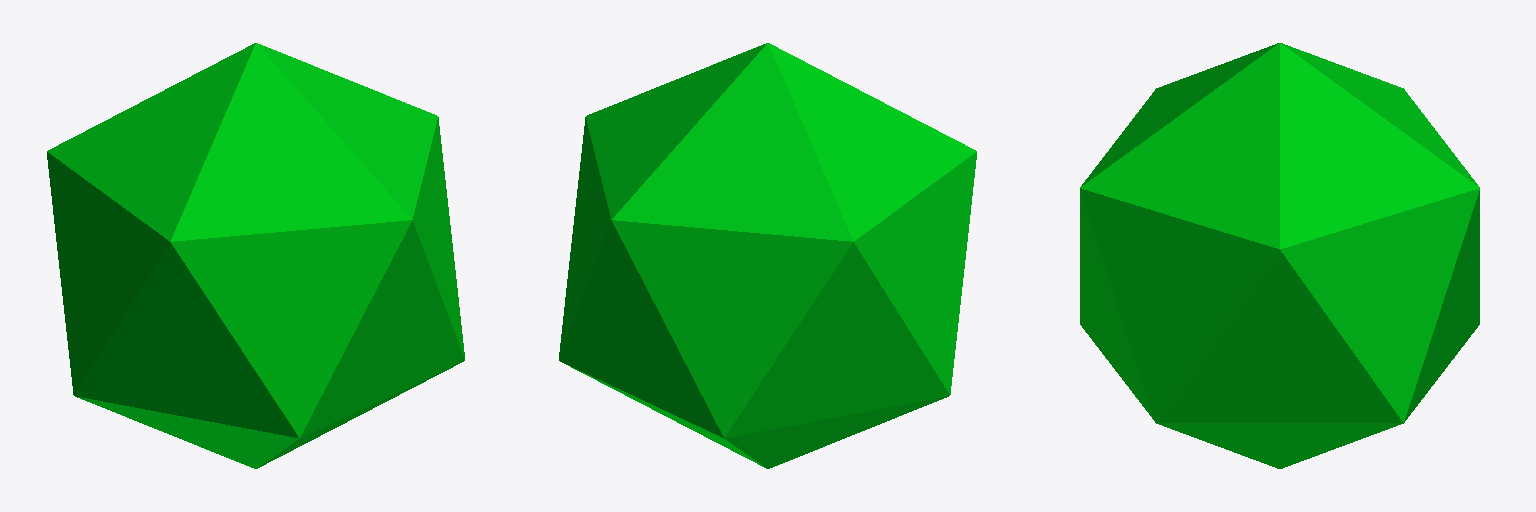
Rendered from enemyParticle.obj.
3 views of the same model, side by side, from view 1: azimuth 30°, elevation 25°; view 2: azimuth 150°, elevation 25°; view 3: azimuth 270°, elevation 25° (orthographic).
Visible parts, largest first — view 1: Icosphere; view 2: Icosphere; view 3: Icosphere.
Part boxes in pixels (x1,y1,x2,y2): Icosphere: (47, 43, 464, 468); Icosphere: (559, 43, 976, 468); Icosphere: (1080, 43, 1479, 468).
Size of the model in its own units: 1.79 by 2 by 1.7.